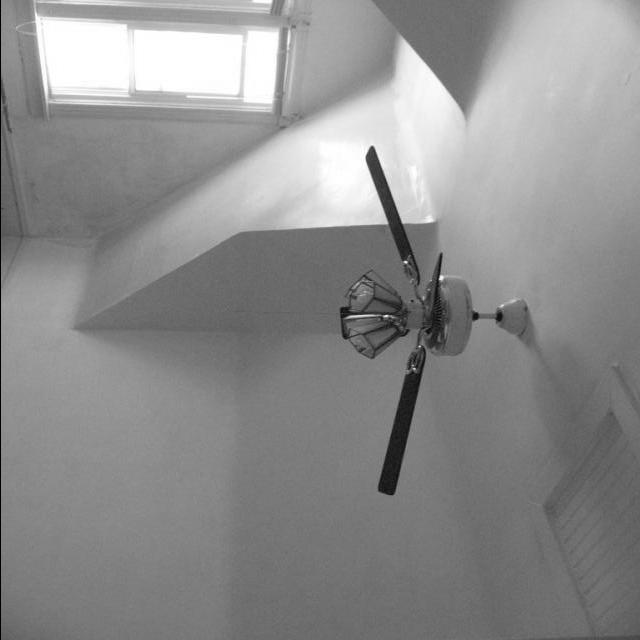fan: (339, 146, 530, 496)
light: (339, 270, 410, 360)
